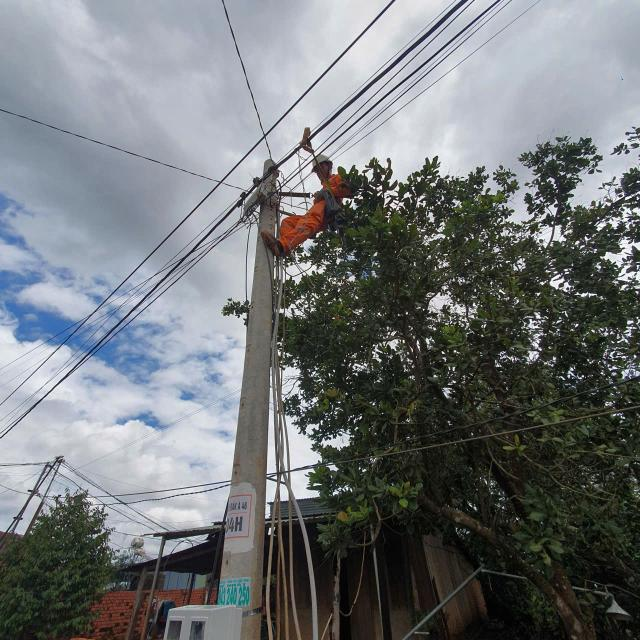gloves: (318, 186, 330, 197), (313, 190, 322, 201)
harness: (332, 197, 343, 207)
helmet: (309, 150, 335, 173)
shoes: (261, 228, 286, 258)
